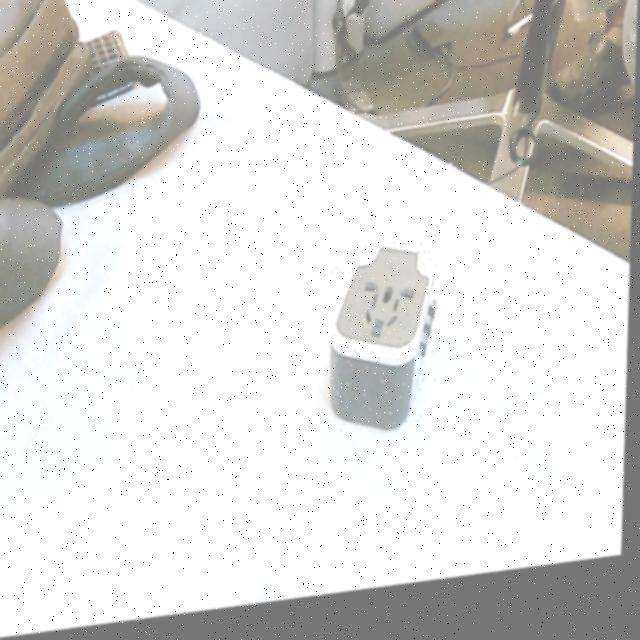adapter: (329, 246, 441, 448)
